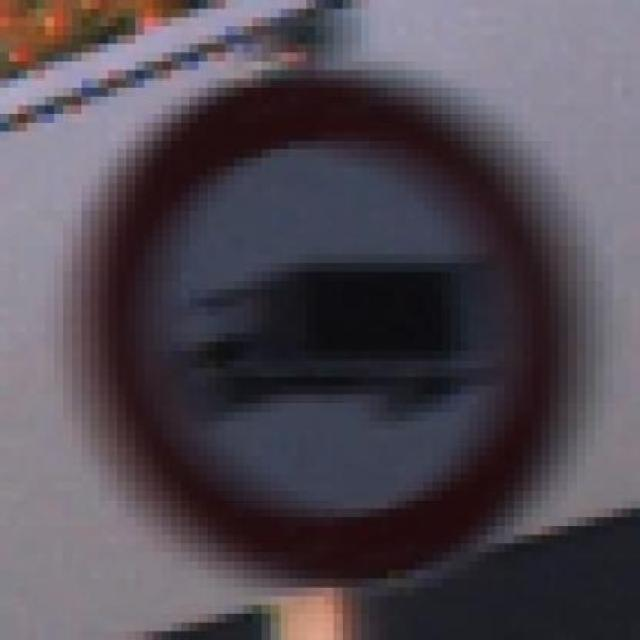Truck traffic is prohibited: (53, 61, 604, 578)
